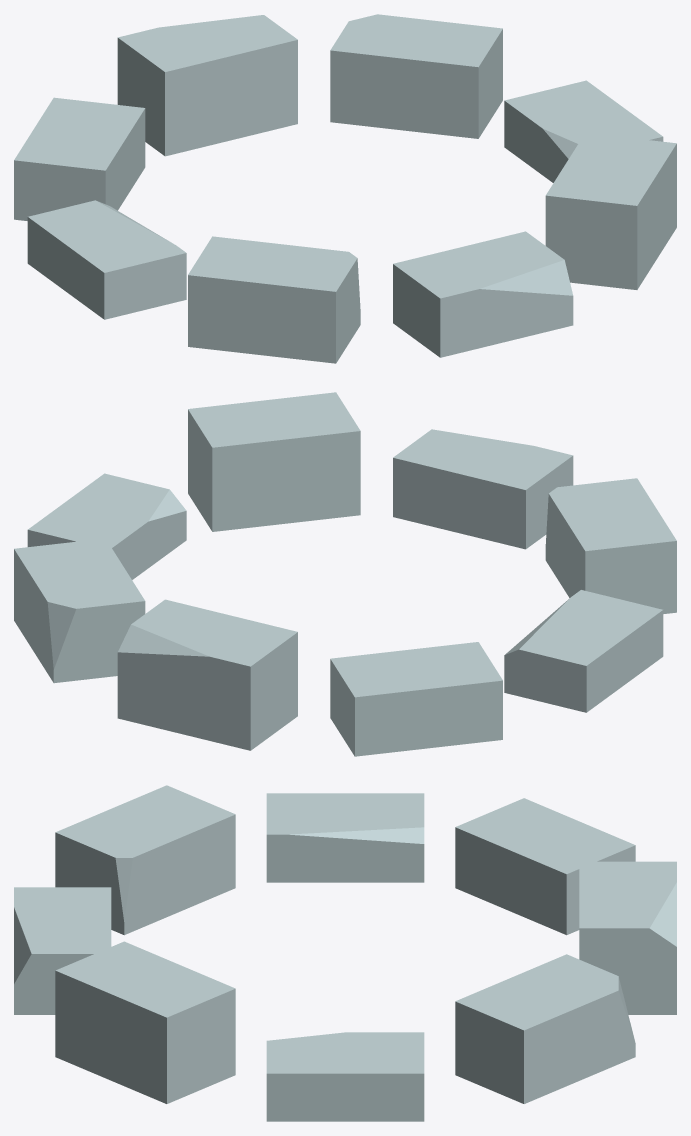
The model's file is campfire_bricks.glb.
3 renders of one model, top to bottom at view 1: azimuth 30°, elevation 25°; view 2: azimuth 150°, elevation 25°; view 3: azimuth 270°, elevation 25°, orthographic. The views are drawn at different scales.
Visible parts, largest first — view 1: campfire_bricks; view 2: campfire_bricks; view 3: campfire_bricks.
Boxes of the visible parts, bbox=[...] form: campfire_bricks: bbox=[14, 14, 676, 363]; campfire_bricks: bbox=[14, 392, 676, 756]; campfire_bricks: bbox=[14, 785, 676, 1121].
Bounding box in the file's own units: 0.4692 × 0.0676 × 0.4692.
